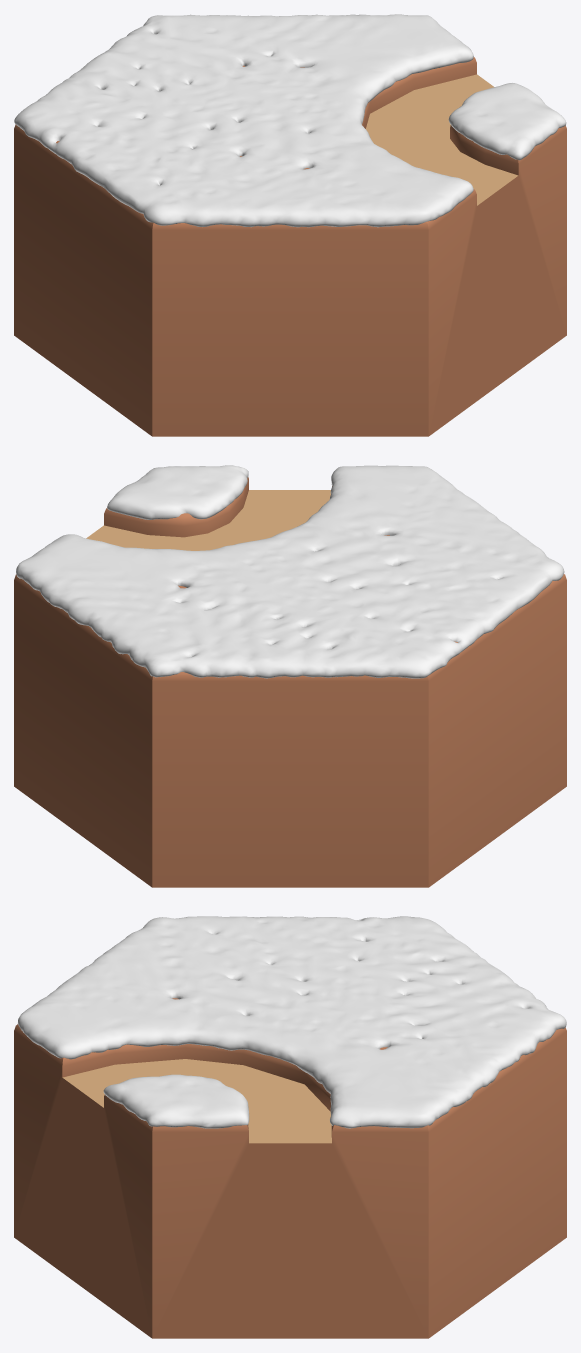
The model's file is hex_rock_roadC.fbx.
3 views of the same model, one above another, from view 1: azimuth 30°, elevation 25°; view 2: azimuth 150°, elevation 25°; view 3: azimuth 270°, elevation 25° (orthographic).
Parts seen in each view (by area): view 1: hex_rock_roadC.001, SnowBall.001, hex_rock_roadC; view 2: hex_rock_roadC.001, SnowBall.001, hex_rock_roadC; view 3: hex_rock_roadC.001, SnowBall.001, hex_rock_roadC.
Part boxes in pixels (<box>): hex_rock_roadC.001: <box>14,57,566,436</box>; SnowBall.001: <box>14,14,566,227</box>; hex_rock_roadC: <box>366,74,518,205</box>; hex_rock_roadC.001: <box>14,477,566,887</box>; SnowBall.001: <box>16,465,564,678</box>; hex_rock_roadC: <box>86,490,330,550</box>; hex_rock_roadC.001: <box>14,998,566,1338</box>; SnowBall.001: <box>17,916,566,1128</box>; hex_rock_roadC: <box>62,1059,331,1143</box>.
Bounding box in the file's own units: 203 × 103 × 231.
